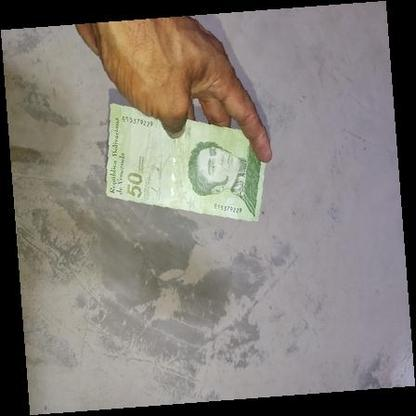fifty-front-vef: (105, 101, 266, 222)
